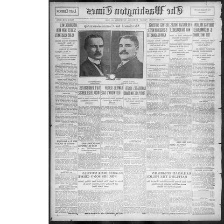news_paper: (48, 0, 223, 222)
